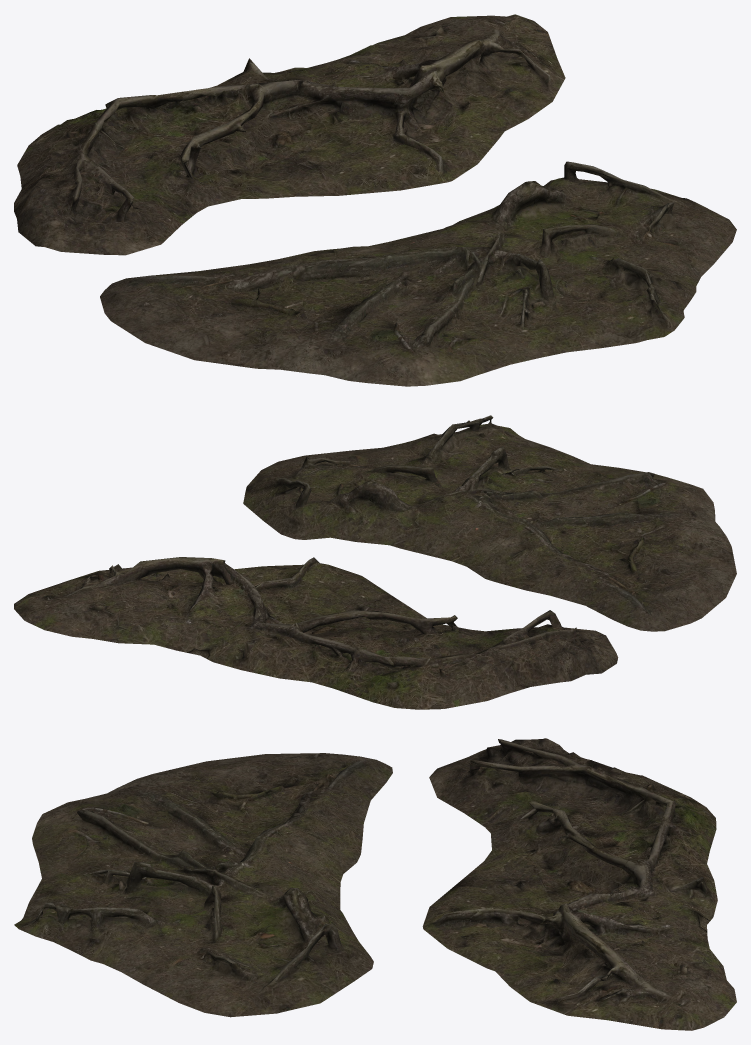
File: pine_roots.glb
3 renders of one model, top to bottom at view 1: azimuth 30°, elevation 25°; view 2: azimuth 150°, elevation 25°; view 3: azimuth 270°, elevation 25°, orthographic. The views are drawn at different scales.
Parts seen in each view (by area): view 1: pine_roots_b, pine_roots_a; view 2: pine_roots_b, pine_roots_a; view 3: pine_roots_b, pine_roots_a.
Part boxes in pixels (box(x1,y1,x2,y2)): pine_roots_b: box(100, 161, 736, 386); pine_roots_a: box(14, 14, 565, 255); pine_roots_b: box(243, 415, 736, 631); pine_roots_a: box(14, 557, 618, 709); pine_roots_b: box(14, 753, 392, 1017); pine_roots_a: box(422, 738, 736, 1030).
Bounding box in the file's own units: 1.76 × 0.1538 × 1.89.
Materials: 2 (2 with a texture image).
